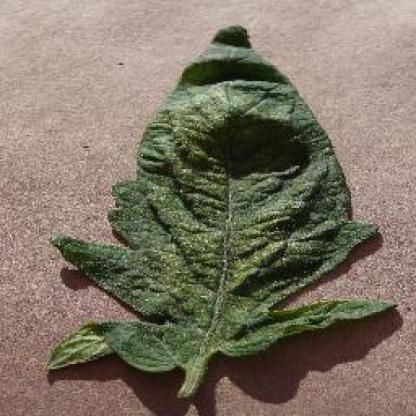Tomato_Spider_Mites: (47, 26, 389, 364)
